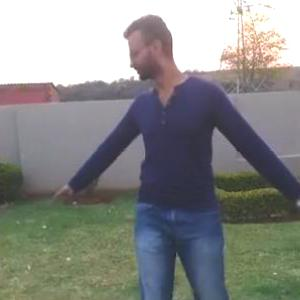land: (57, 16, 300, 299)
